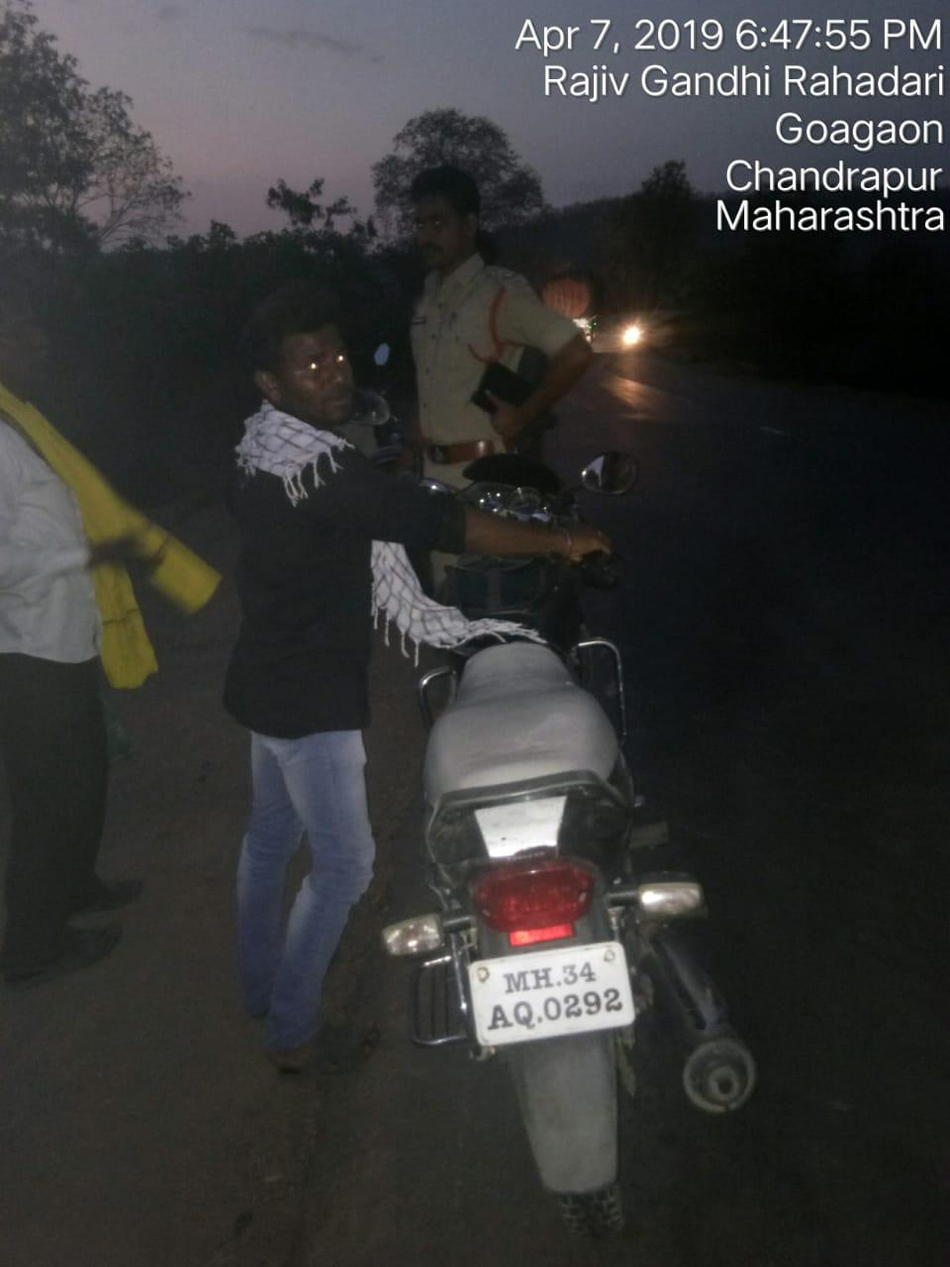plate: (452, 930, 653, 1070)
